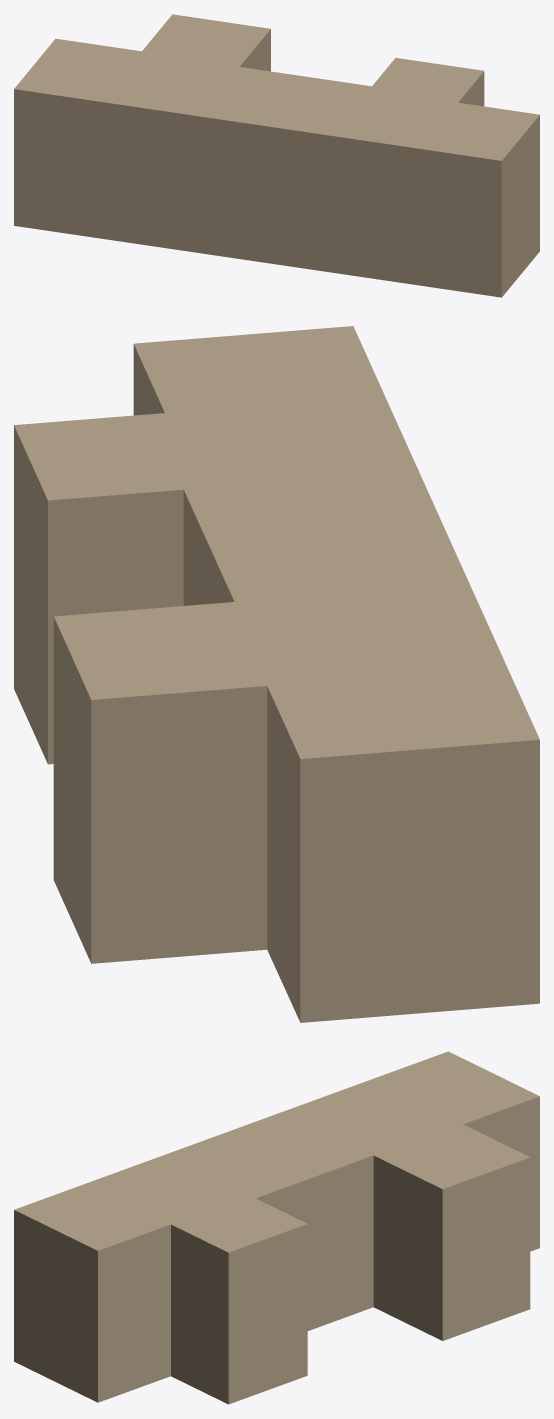
The model's file is bld_276131472.dae.
3 views of the same model, one above another, from view 1: azimuth 30°, elevation 25°; view 2: azimuth 150°, elevation 25°; view 3: azimuth 270°, elevation 25° (orthographic). The views are drawn at different scales.
Visible parts, largest first — view 1: bld_276131472; view 2: bld_276131472; view 3: bld_276131472.
Part boxes in pixels (bbox=[...]): bld_276131472: bbox=[14, 14, 539, 297]; bld_276131472: bbox=[14, 326, 539, 1022]; bld_276131472: bbox=[14, 1051, 539, 1404].
Bounding box in the file's own units: 22.75 × 25.12 × 8.
